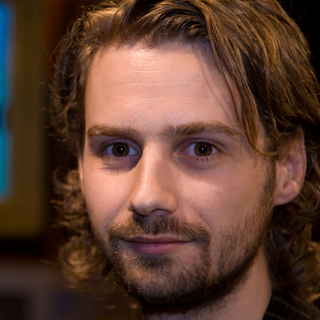eye: (174, 138, 227, 164), (94, 138, 141, 165)
